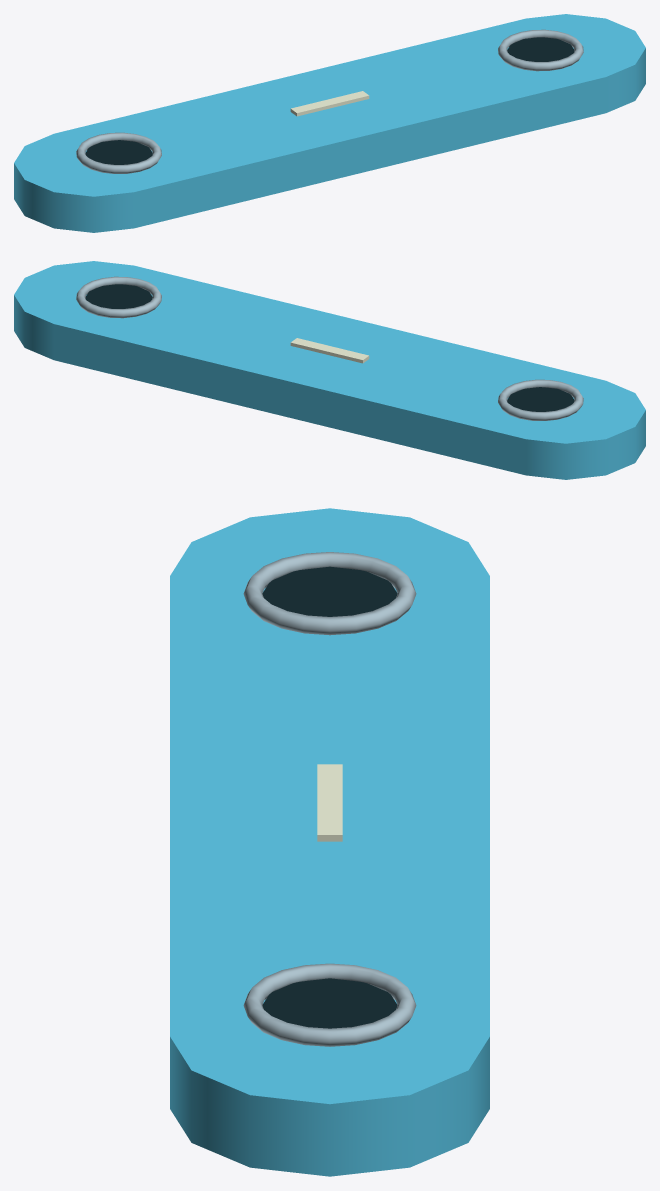
File: metal-plate.glb
3 renders of one model, top to bottom at view 1: azimuth 30°, elevation 25°; view 2: azimuth 150°, elevation 25°; view 3: azimuth 270°, elevation 25°, orthographic. The views are drawn at different scales.
Visible parts, largest first — view 1: plate, end--1, end-1, rim--1, rim-1, hole--1, hole-1, stamp; view 2: plate, end--1, end-1, rim--1, rim-1, hole--1, hole-1, stamp; view 3: plate, end-1, end--1, rim-1, rim--1, hole-1, hole--1, stamp.
Part boxes in pixels (x1,y1,x2,y2): plate: (54, 18, 605, 228); end--1: (14, 130, 173, 232); end-1: (487, 14, 645, 112); rim--1: (76, 132, 161, 173); rim-1: (498, 29, 583, 71); hole--1: (85, 140, 152, 164); hole-1: (507, 37, 574, 61); stamp: (290, 91, 369, 116); plate: (54, 265, 605, 475); end--1: (486, 378, 645, 479); end-1: (14, 261, 172, 359); rim--1: (498, 379, 583, 420); rim-1: (76, 276, 161, 318); hole--1: (507, 387, 574, 411); hole-1: (85, 284, 152, 308); stamp: (290, 338, 369, 363); plate: (170, 576, 489, 1036); end-1: (170, 997, 489, 1176); end--1: (170, 508, 489, 642); rim-1: (243, 963, 416, 1046); rim--1: (243, 552, 416, 635); hole-1: (262, 978, 397, 1028); hole--1: (262, 566, 397, 616); stamp: (317, 764, 342, 841).
Size of the model in its own units: 1.94 by 0.1313 by 0.44.
